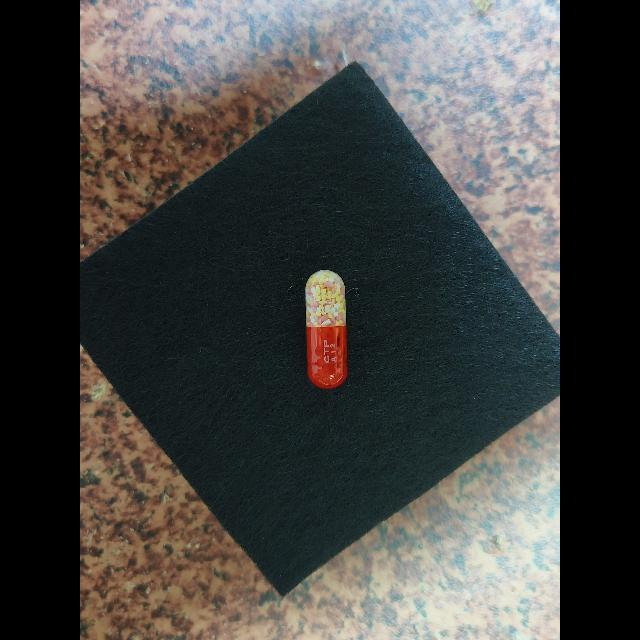Intact Capsule: (305, 270, 348, 389)
